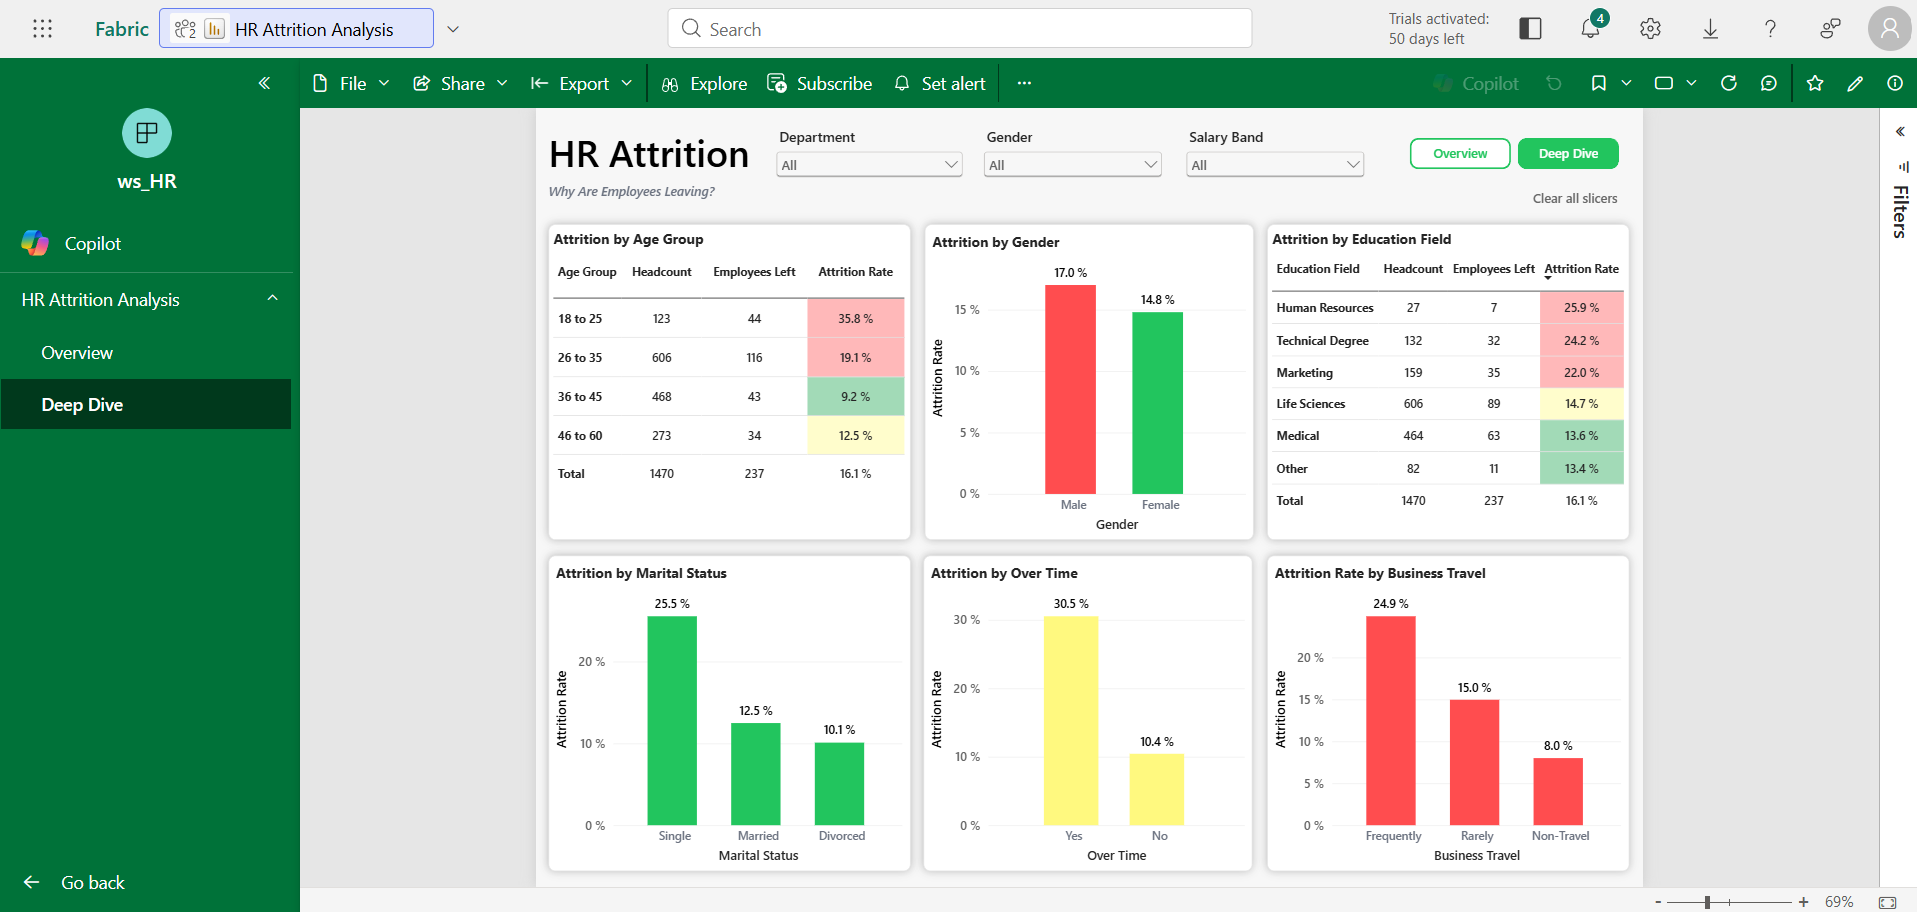

This screenshot's page, from the dashboard's own definition file:
{"tool":"powerbi","page":{"name":"Deep Dive","canvas":[1280,900],"ordinal":1},"visuals":[{"type":"pageNavigator","box":[1010,35,243.3,36.7],"z":0},{"type":"slicer","fields":{"Values":["hr_employees.Department"]},"box":[272.9,21.4,225,73.3],"z":1000},{"type":"slicer","fields":{"Values":["hr_employees.Gender"]},"box":[512.9,21.4,215.7,72.9],"z":2000},{"type":"slicer","fields":{"Values":["hr_employees.Salary Band"]},"box":[747.1,21.4,215.7,72.9],"z":3000},{"type":"textbox","box":[14.3,21.4,259,63.7],"z":4000},{"type":"textbox","box":[14.3,85.7,259,27.6],"z":5000},{"type":"actionButton","box":[1120,85.7,160,38.6],"z":6000},{"type":"pivotTable","title":"Attrition by Age Group","fields":{"Rows":["hr_employees.Age Group"],"Values":["hr_employees.Headcount","hr_employees.Employees Left","hr_employees.Attrition Rate"]},"box":[15,135,418.3,365],"z":6001},{"type":"pivotTable","title":"Attrition by Education Field","fields":{"Rows":["hr_employees.EducationField"],"Values":["hr_employees.Headcount","hr_employees.Employees Left","hr_employees.Attrition Rate"]},"box":[845,135,418.3,365],"z":6002},{"type":"columnChart","title":"Attrition by Gender","fields":{"Category":["hr_employees.Gender"],"Y":["hr_employees.Attrition Rate"]},"box":[449,135,380,365],"z":6003},{"type":"columnChart","title":"Attrition by Marital Status","fields":{"Category":["hr_employees.MaritalStatus"],"Y":["hr_employees.Attrition Rate"]},"box":[15,516.7,418.3,365],"z":6004},{"type":"columnChart","fields":{"Category":["hr_employees.BusinessTravel"],"Y":["hr_employees.Attrition Rate"]},"box":[845,516.7,418.3,365],"z":6005},{"type":"columnChart","title":"Attrition by Over Time","fields":{"Category":["hr_employees.OverTime"],"Y":["hr_employees.Attrition Rate"]},"box":[448.3,516.7,380,365],"z":6006}]}

Visuals, with their boxes on the page's 1280x900 design canvas (x1, y1, x2, y2). These are canvas units, not pixel positions in the 1917x912 screenshot, which may show the page scaled, cropped or inside an application window:
pageNavigator: [x1=1010, y1=35, x2=1253, y2=72]
slicer - hr_employees.Department: [x1=273, y1=21, x2=498, y2=95]
slicer - hr_employees.Gender: [x1=513, y1=21, x2=729, y2=94]
slicer - hr_employees.Salary Band: [x1=747, y1=21, x2=963, y2=94]
textbox: [x1=14, y1=21, x2=273, y2=85]
textbox: [x1=14, y1=86, x2=273, y2=113]
actionButton: [x1=1120, y1=86, x2=1280, y2=124]
"Attrition by Age Group" pivotTable: [x1=15, y1=135, x2=433, y2=500]
"Attrition by Education Field" pivotTable: [x1=845, y1=135, x2=1263, y2=500]
"Attrition by Gender" columnChart: [x1=449, y1=135, x2=829, y2=500]
"Attrition by Marital Status" columnChart: [x1=15, y1=517, x2=433, y2=882]
columnChart - hr_employees.BusinessTravel x hr_employees.Attrition Rate: [x1=845, y1=517, x2=1263, y2=882]
"Attrition by Over Time" columnChart: [x1=448, y1=517, x2=828, y2=882]
